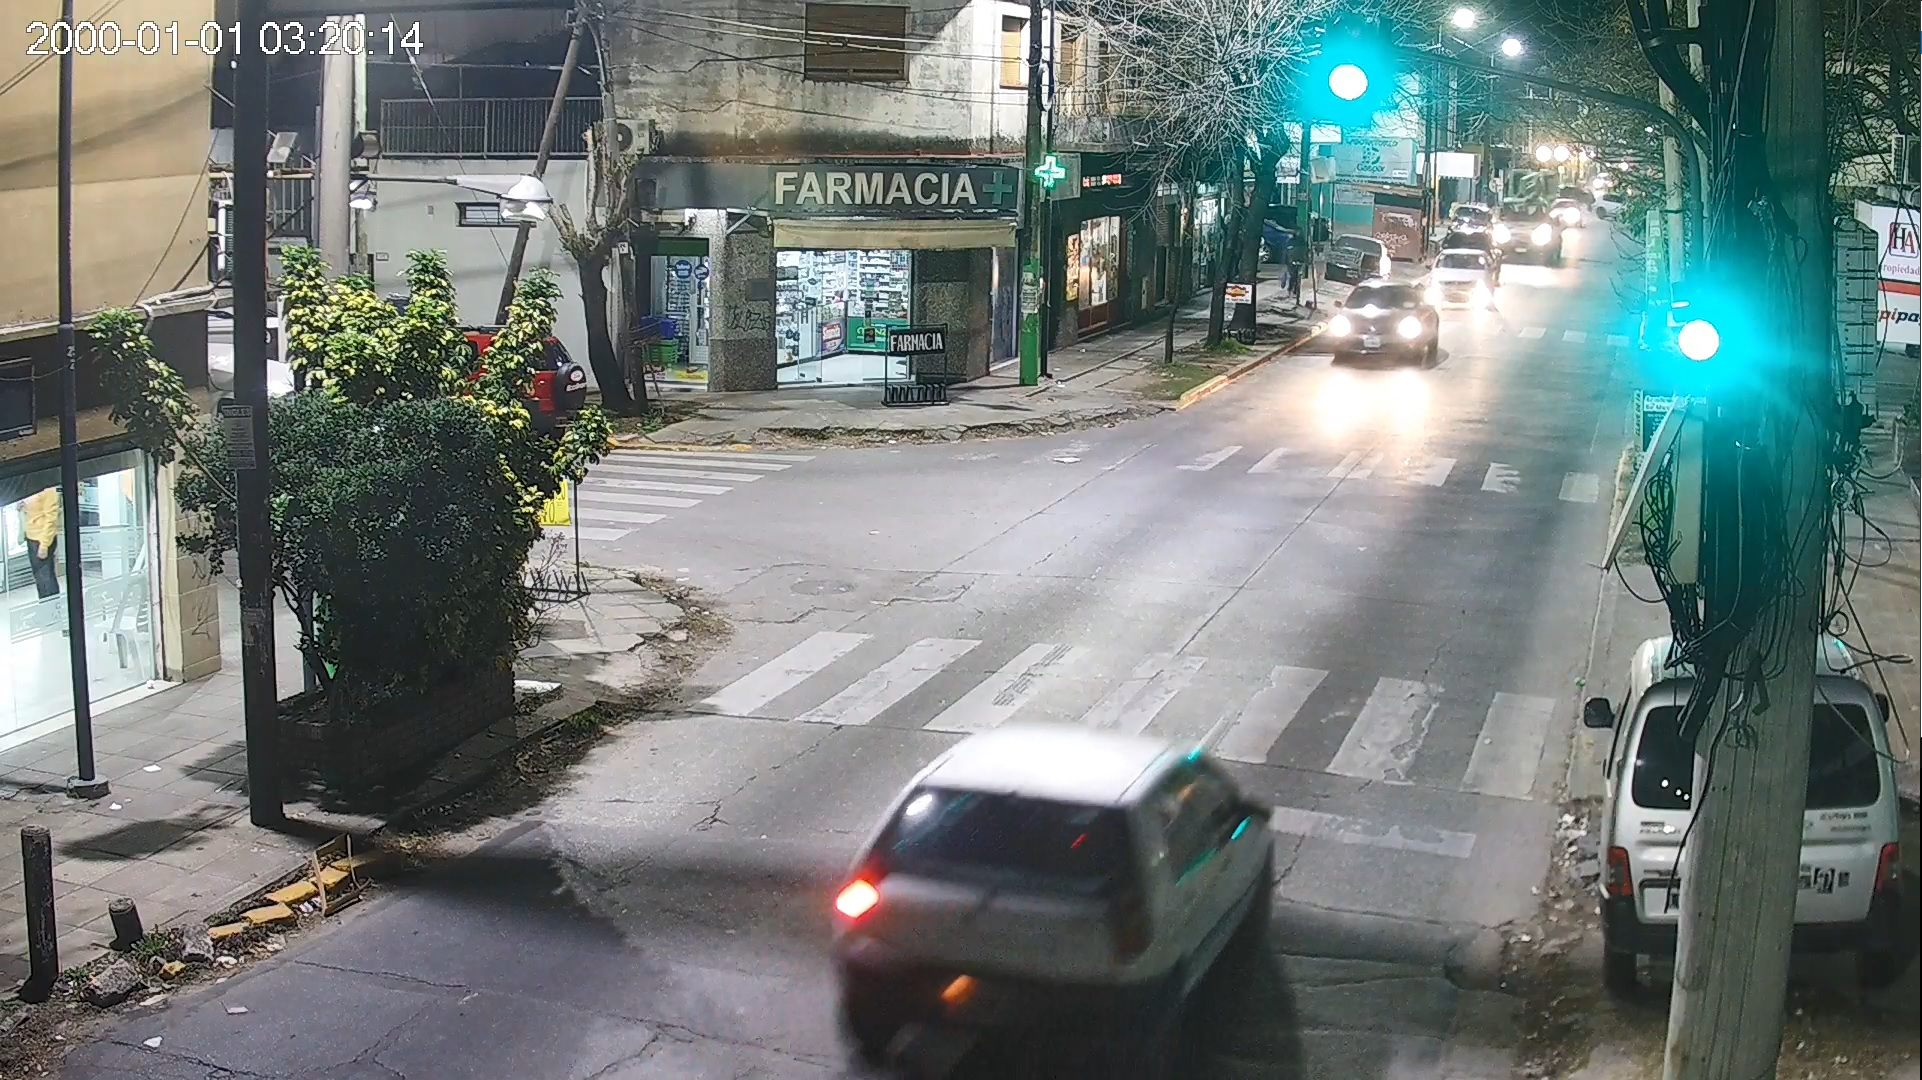car: (826, 712, 1280, 1080), (1564, 610, 1922, 1018), (1313, 271, 1449, 388)
